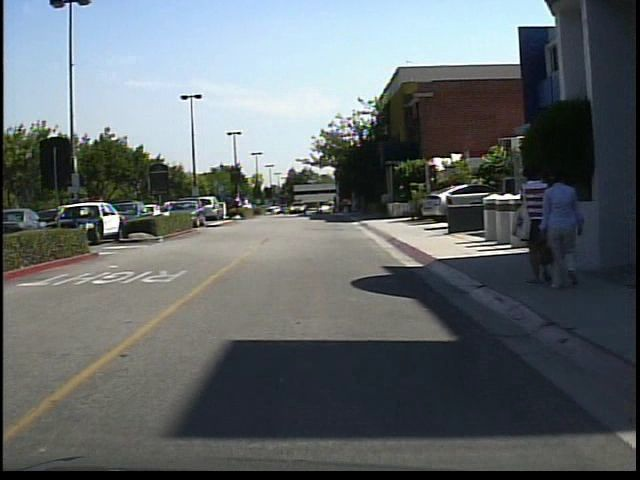person: (539, 165, 589, 290), (517, 162, 550, 289), (239, 192, 255, 220), (327, 195, 339, 221)
